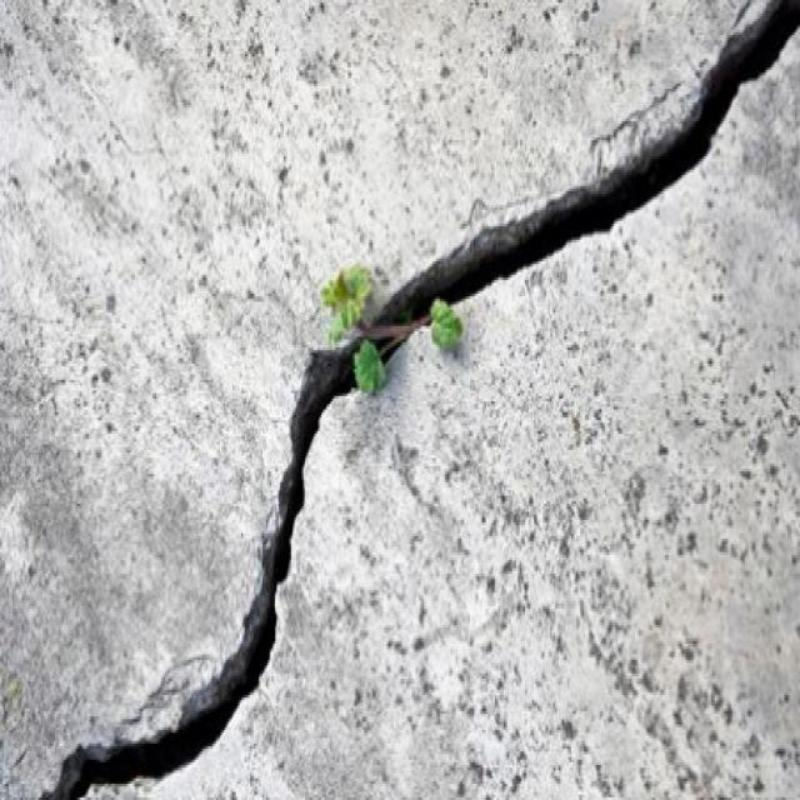crack: (40, 0, 799, 799)
